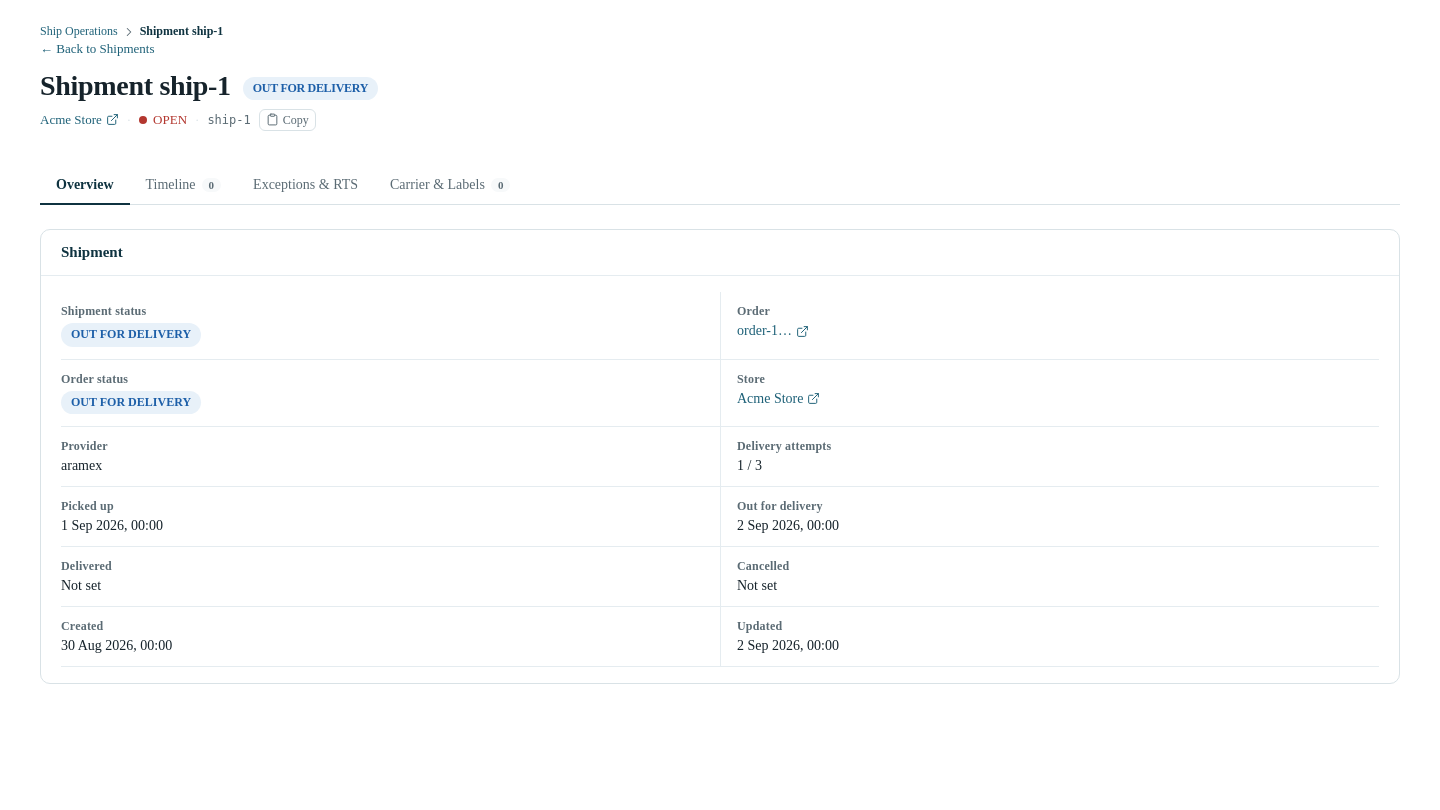
Test: ShipmentDetailConsole — exception actions › hides all write actions without the write permission
The image size is (1440, 810).
Click the tab "Exceptions & RTS".
click(306, 186)  # box x1=237 y1=167 x2=374 y2=205
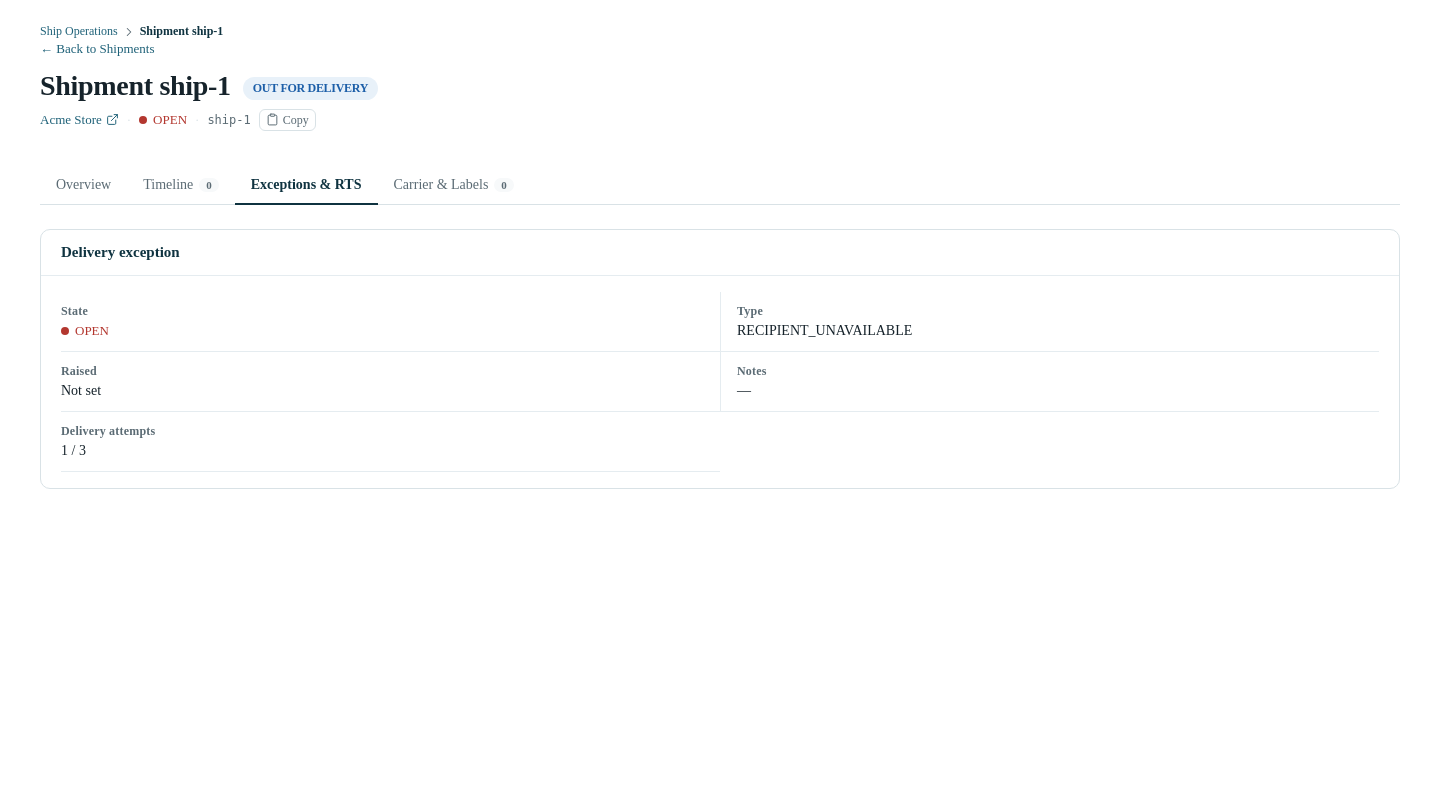
Expected: the heading "Delivery exception" is shown, x1=61 y1=244 x2=180 y2=261
